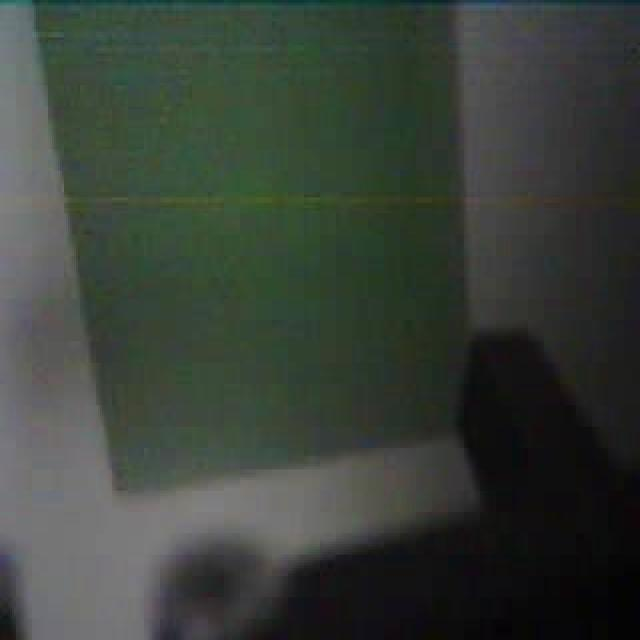green_box: (34, 0, 472, 496)
